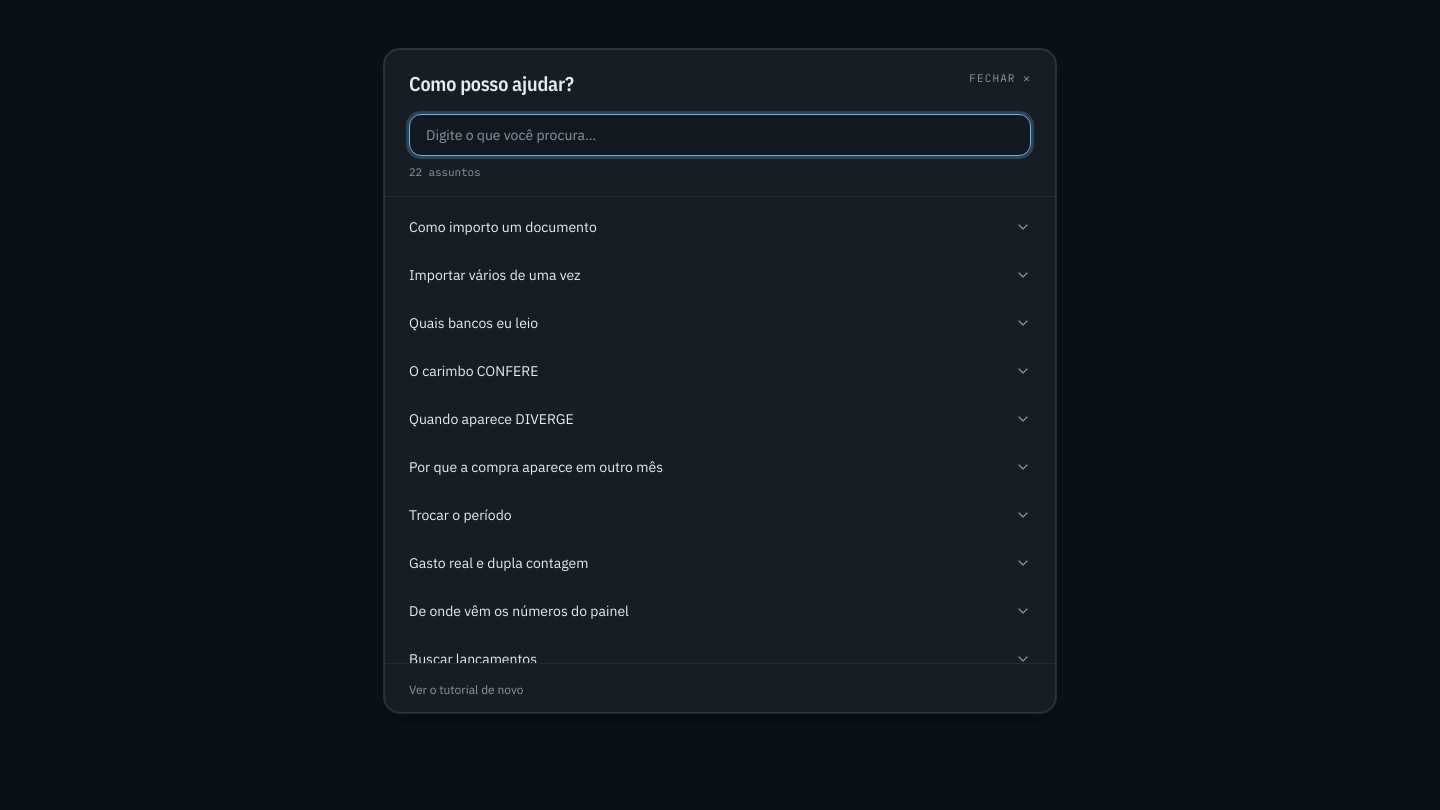
it: Ajuda › digitar filtra a lista
In the search field: [720, 135] box [409,114,1031,156], type "parcela"
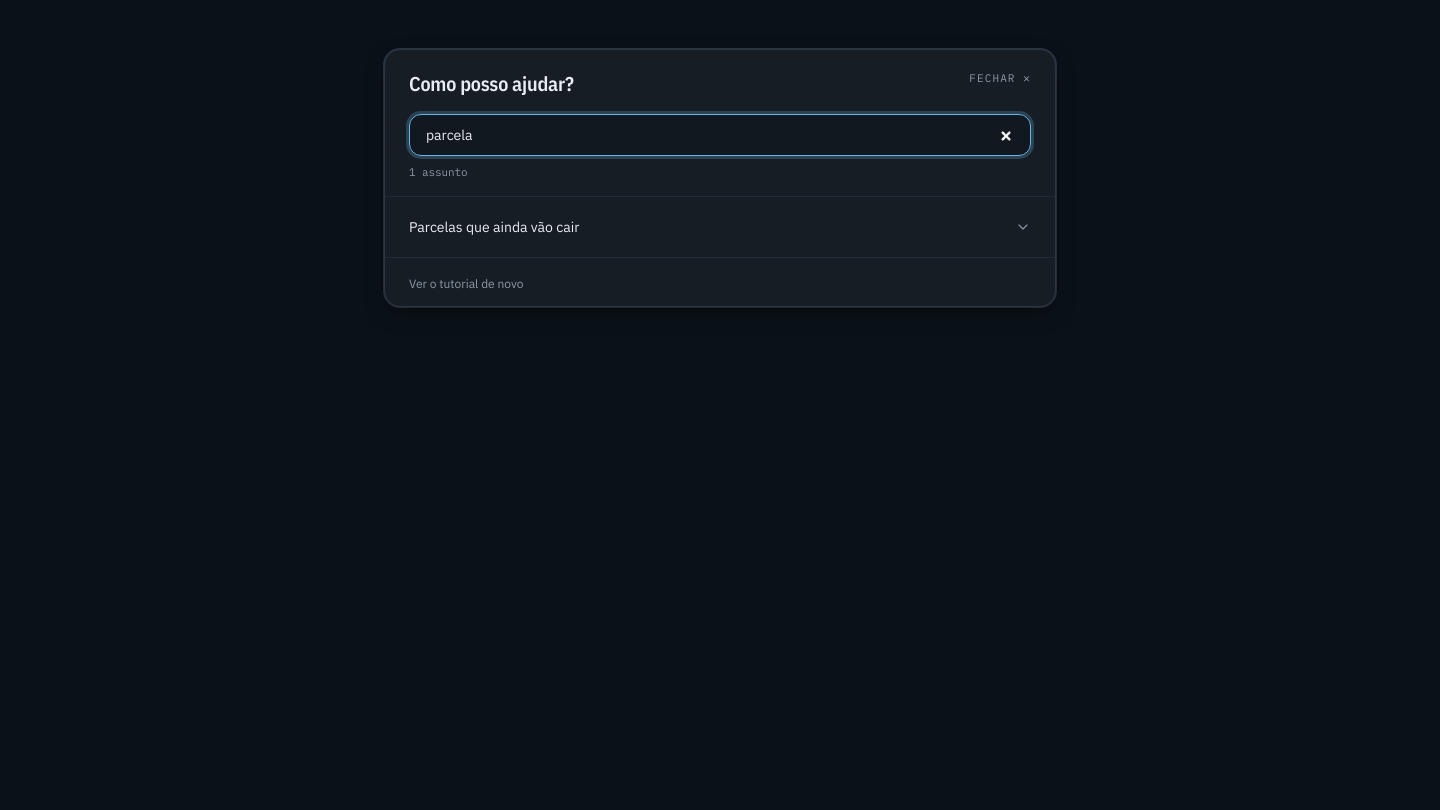
Expected: the text "Parcelas que ainda vão cair" is shown, [409,217,579,237]
